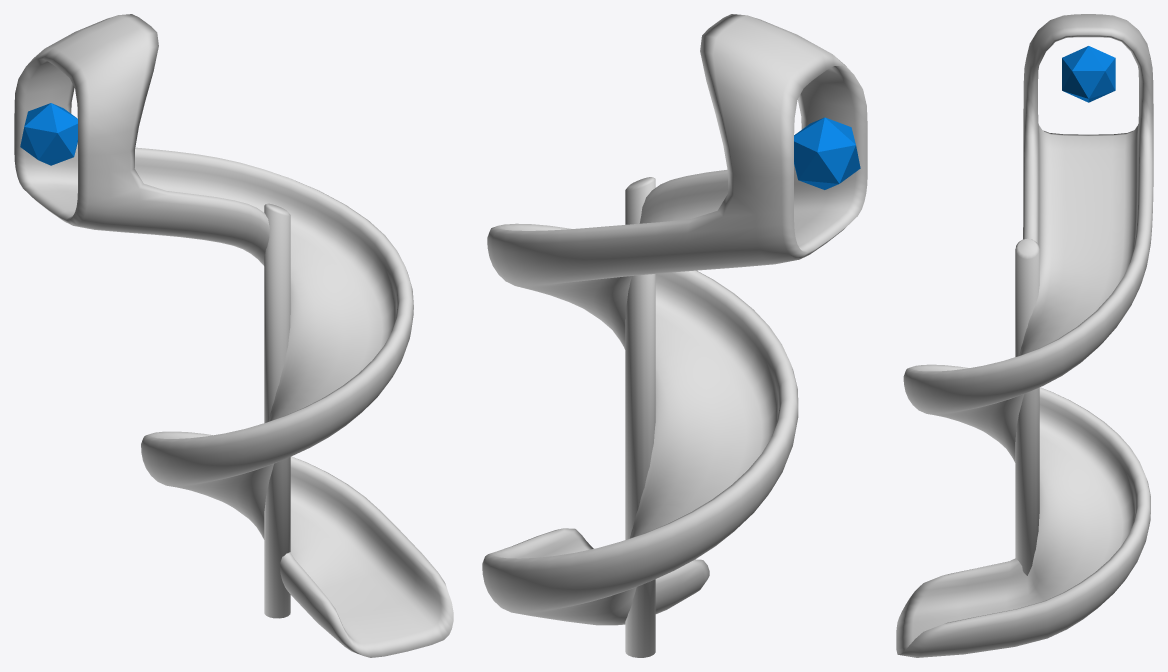
Rendered from Spiral slide 7'.glb.
The picture shows the model from 3 angles, left to right: view 1: azimuth 30°, elevation 25°; view 2: azimuth 150°, elevation 25°; view 3: azimuth 270°, elevation 25°; orthographic projection. The views are drawn at different scales.
Parts seen in each view (by area): view 1: Plane.042, Joint.057; view 2: Plane.042, Joint.057; view 3: Plane.042, Joint.057.
Boxes of the visible parts, left/top/right/bottom form: Plane.042: left=14, top=14, right=453, bottom=657; Joint.057: left=20, top=103, right=77, bottom=165; Plane.042: left=482, top=14, right=867, bottom=657; Joint.057: left=794, top=117, right=860, bottom=189; Plane.042: left=896, top=14, right=1153, bottom=657; Joint.057: left=1062, top=46, right=1115, bottom=102.
Size of the model in its own units: 1.72 by 2.89 by 1.25.
